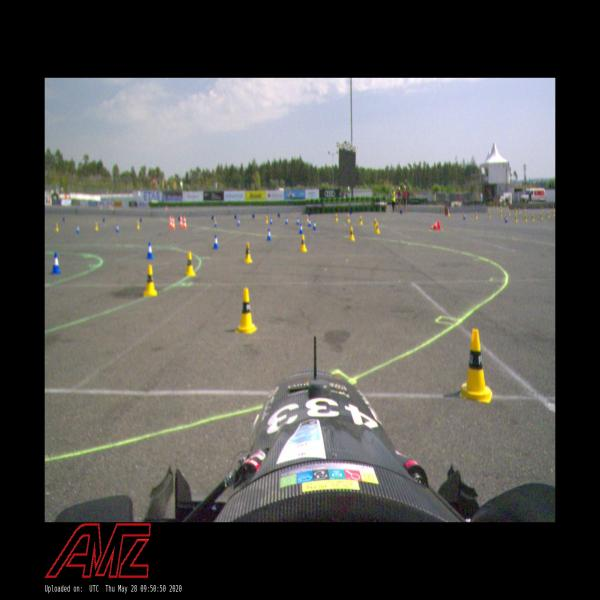blue_cone: (458, 327, 492, 405), (51, 252, 61, 275), (145, 241, 154, 260), (212, 234, 219, 250), (266, 228, 271, 241), (75, 223, 80, 234), (299, 223, 304, 234), (115, 223, 120, 233), (312, 220, 317, 230), (236, 218, 241, 226), (285, 216, 289, 225), (296, 216, 300, 225), (214, 219, 218, 227), (270, 216, 273, 224), (308, 219, 311, 227)
large_orange_cone: (183, 215, 188, 230), (171, 216, 176, 230), (178, 215, 183, 228), (169, 215, 172, 228)
orange_cone: (428, 219, 440, 230)
yellow_cone: (234, 287, 258, 335), (142, 264, 158, 298), (183, 252, 196, 276), (243, 242, 253, 264), (299, 234, 308, 253), (348, 226, 356, 242), (374, 221, 381, 235), (54, 222, 60, 233), (94, 221, 99, 232), (374, 218, 378, 228), (136, 221, 140, 230), (334, 213, 338, 222), (346, 214, 350, 223), (359, 216, 363, 225), (213, 216, 216, 224), (306, 214, 309, 222), (266, 216, 268, 224)
